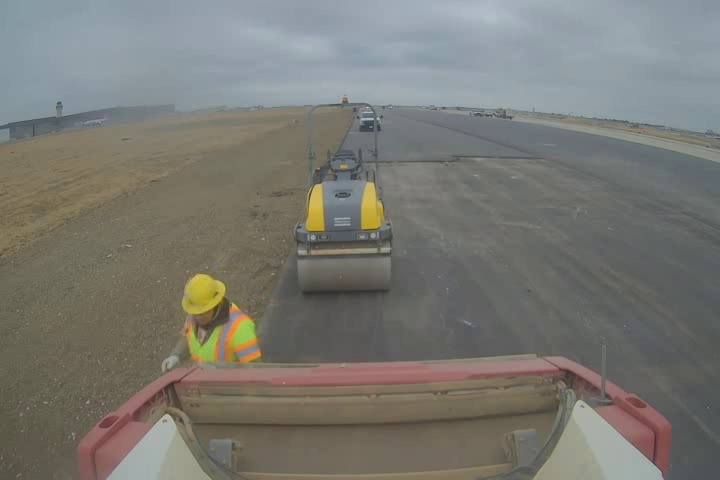person: (159, 266, 266, 375)
vehicle: (72, 351, 671, 480), (293, 102, 394, 293), (351, 108, 385, 130)
vest: (172, 300, 262, 365)
yellow_helmet: (176, 268, 232, 329)
